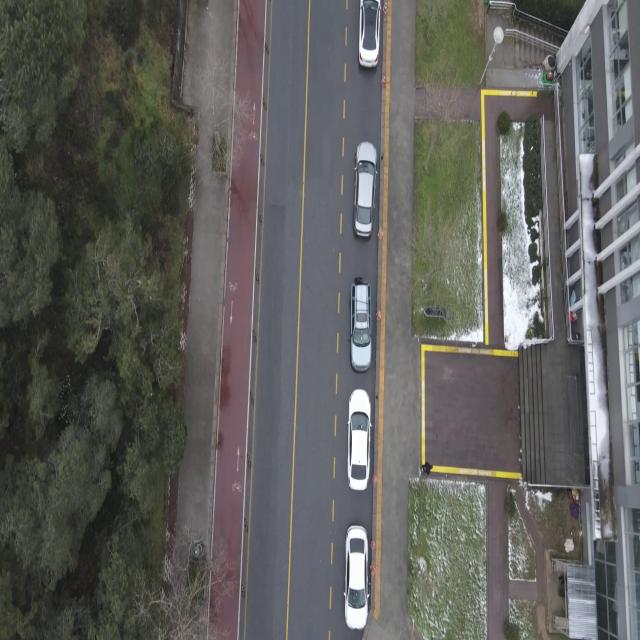p3rson: (422, 461, 432, 475), (558, 575, 564, 585)
